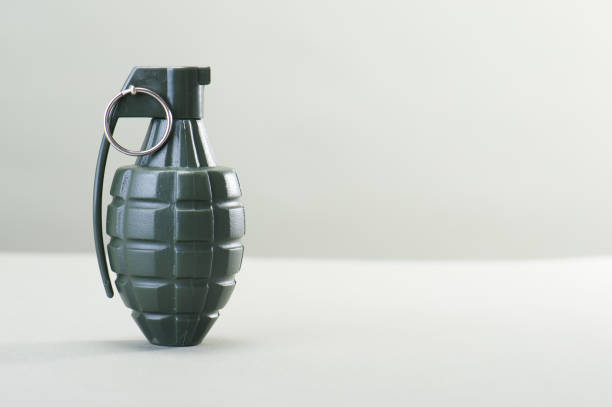e1: (91, 65, 246, 348)
